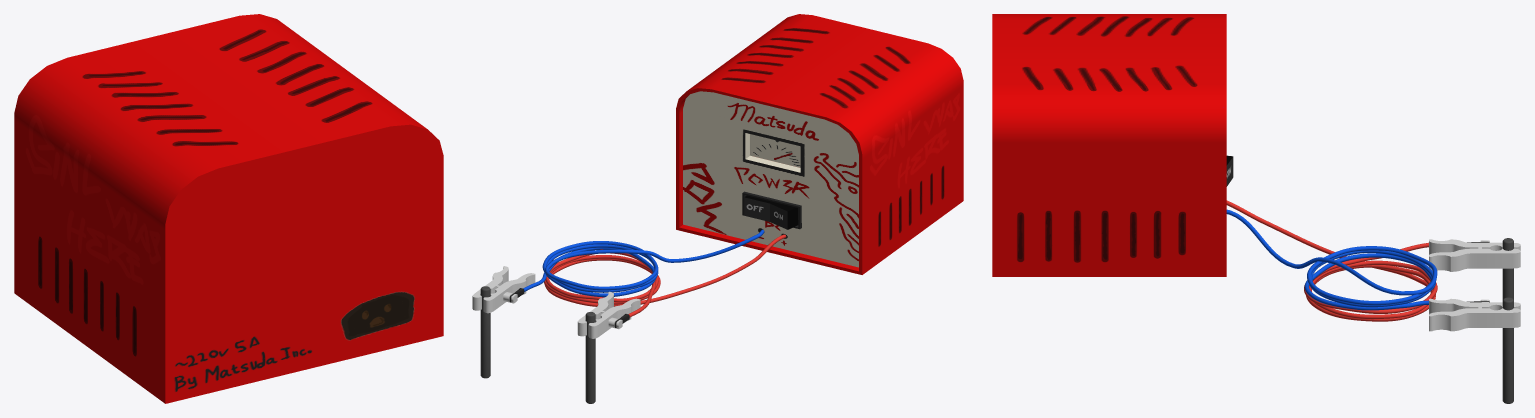
Rendered from cableWithPowerSupplyAndCarbon.fbx.
3 renders of one model, left to right at view 1: azimuth 30°, elevation 25°; view 2: azimuth 150°, elevation 25°; view 3: azimuth 270°, elevation 25°, orthographic. The views are drawn at different scales.
Parts seen in each view (by area): view 1: Cube.018; view 2: Cube.018, BezierCurve.005, BezierCurve.004, Cube.019, Cylinder, Cylinder.001, Cube.034, Cube.021, Cube.035, Cube.020; view 3: Cube.018, BezierCurve.005, BezierCurve.004, Cube.035, Cube.020, Cylinder, Cube.021, Cube.034, Cylinder.001.
Part boxes in pixels (<box>): Cube.018: <box>14,14,443,403</box>; Cube.018: <box>676,14,963,274</box>; BezierCurve.005: <box>523,229,764,297</box>; BezierCurve.004: <box>544,234,786,317</box>; Cube.019: <box>744,195,798,229</box>; Cylinder: <box>480,286,490,378</box>; Cylinder.001: <box>585,312,595,403</box>; Cube.034: <box>483,273,535,313</box>; Cube.021: <box>588,298,640,338</box>; Cube.035: <box>472,266,508,310</box>; Cube.020: <box>577,291,613,336</box>; Cube.018: <box>992,14,1226,276</box>; BezierCurve.005: <box>1226,209,1437,310</box>; BezierCurve.004: <box>1226,200,1437,321</box>; Cube.035: <box>1429,306,1520,331</box>; Cube.020: <box>1429,247,1520,271</box>; Cylinder: <box>1502,297,1513,403</box>; Cube.021: <box>1429,239,1520,254</box>; Cube.034: <box>1429,298,1520,314</box>; Cylinder.001: <box>1502,238,1513,299</box>.
Size of the model in its own units: 1304 by 1030 by 1904.
